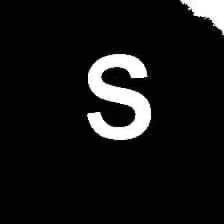LTR_S: (81, 48, 154, 147)
